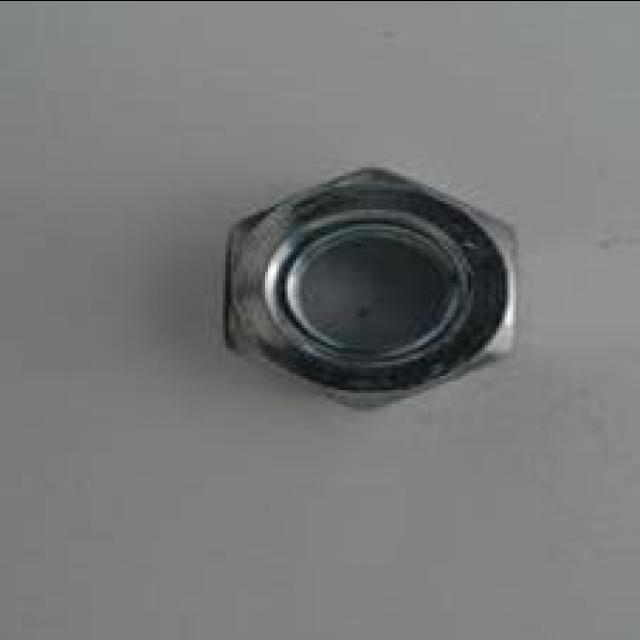ecrouOK: (221, 160, 522, 416)
